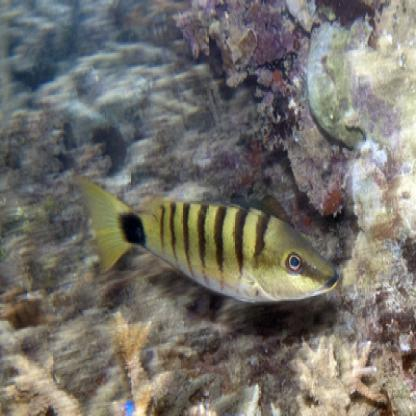snapper: (75, 165, 341, 313)
